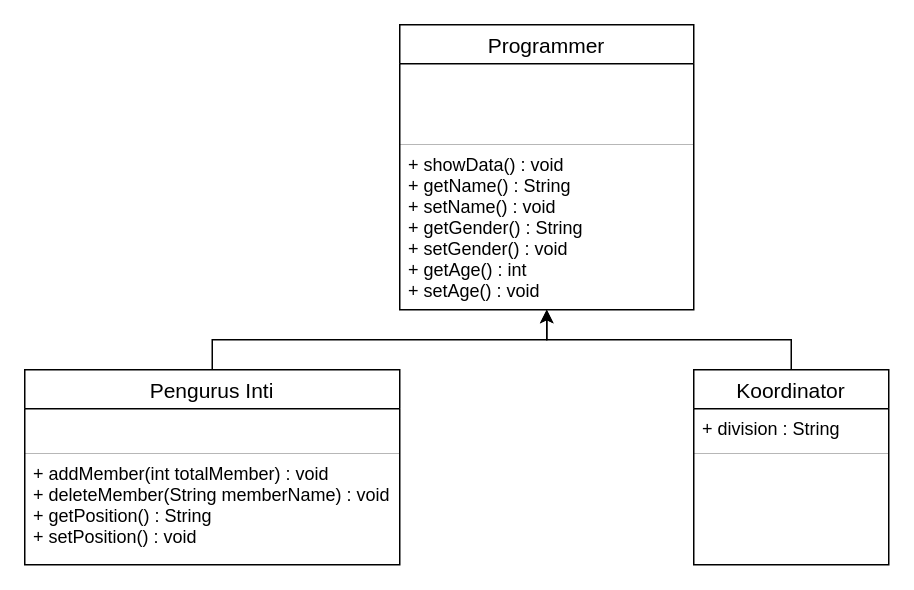
Image size: 914x590. Some labels were removed from this diagram. The centre of each missing label's shape, as x and y in pixels:
+ doTask() : void + getDivision() : String + setDivision() : void: the point at 790,508
+ name : String + gender : String + age : int: the point at 546,103
+ position : String: the point at 211,430
